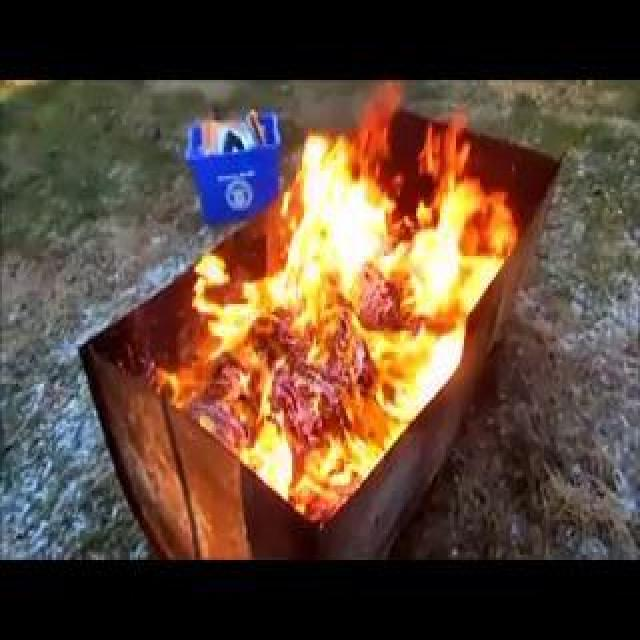Fire: (322, 306, 359, 442)
